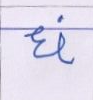anusvara: (58, 15, 63, 23)
